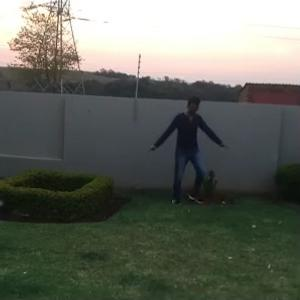land: (150, 101, 228, 210)
